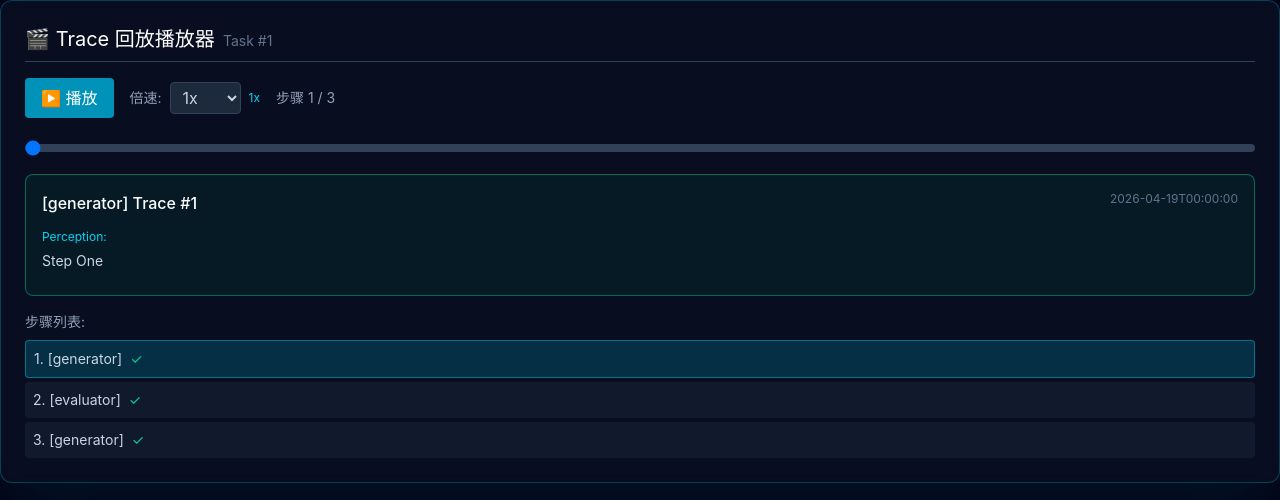
Test case: TracePlayback › timeline_slider_navigation
Note: 滑动到步骤 2 (index 1)
Set the slider to "1" at (640, 148), box [25,144,1255,152]
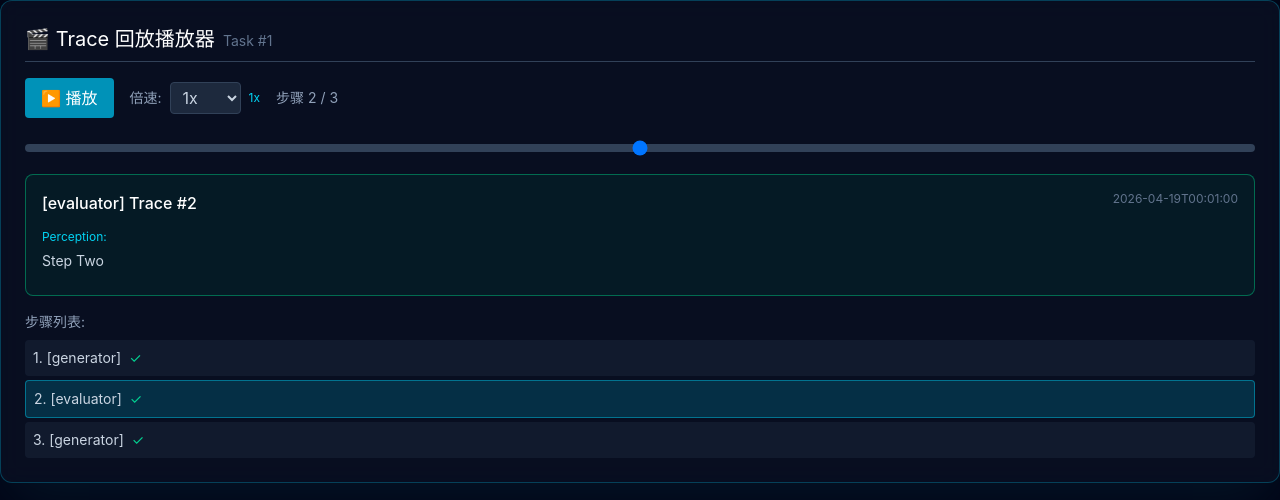
Result: the text "步骤 2 / 3" is shown at [276,88,338,108]
